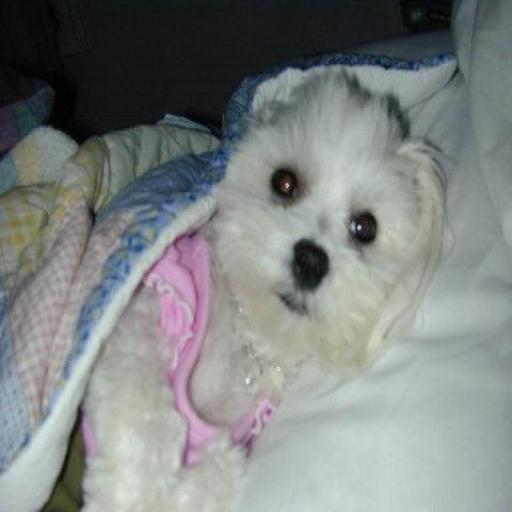dog_face: (227, 90, 441, 368)
